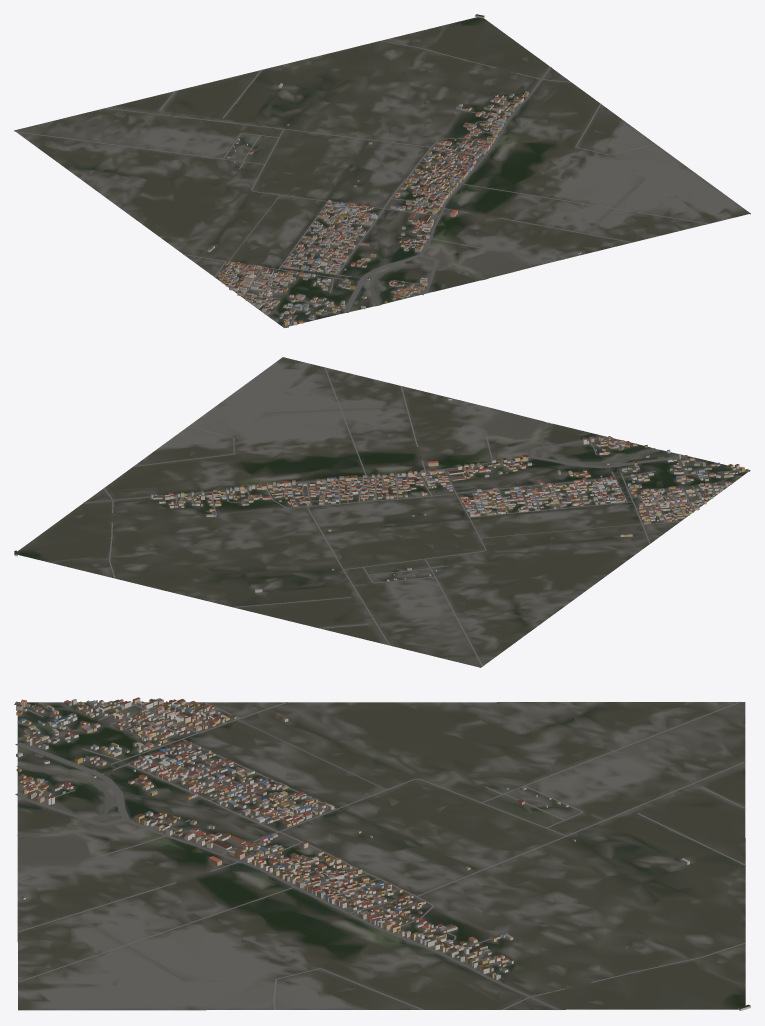
The picture shows the model from 3 angles, top to bottom: view 1: azimuth 30°, elevation 25°; view 2: azimuth 150°, elevation 25°; view 3: azimuth 270°, elevation 25°; orthographic projection. The views are drawn at different scales.
Parts seen in each view (by area): view 1: ground, buildings, roads; view 2: ground, buildings, roads; view 3: ground, buildings, roads, water.
Part boxes in pixels (x1,y1,x2,y2): ground: (14, 17, 750, 326); buildings: (207, 14, 581, 325); roads: (16, 40, 708, 327); ground: (14, 357, 749, 667); buildings: (14, 398, 744, 592); roads: (83, 367, 750, 666); ground: (17, 702, 745, 1010); buildings: (16, 697, 750, 1010); roads: (14, 701, 745, 1010); water: (16, 754, 383, 939).
Bounding box in the file's own units: 1414 × 19.31 × 1419.
